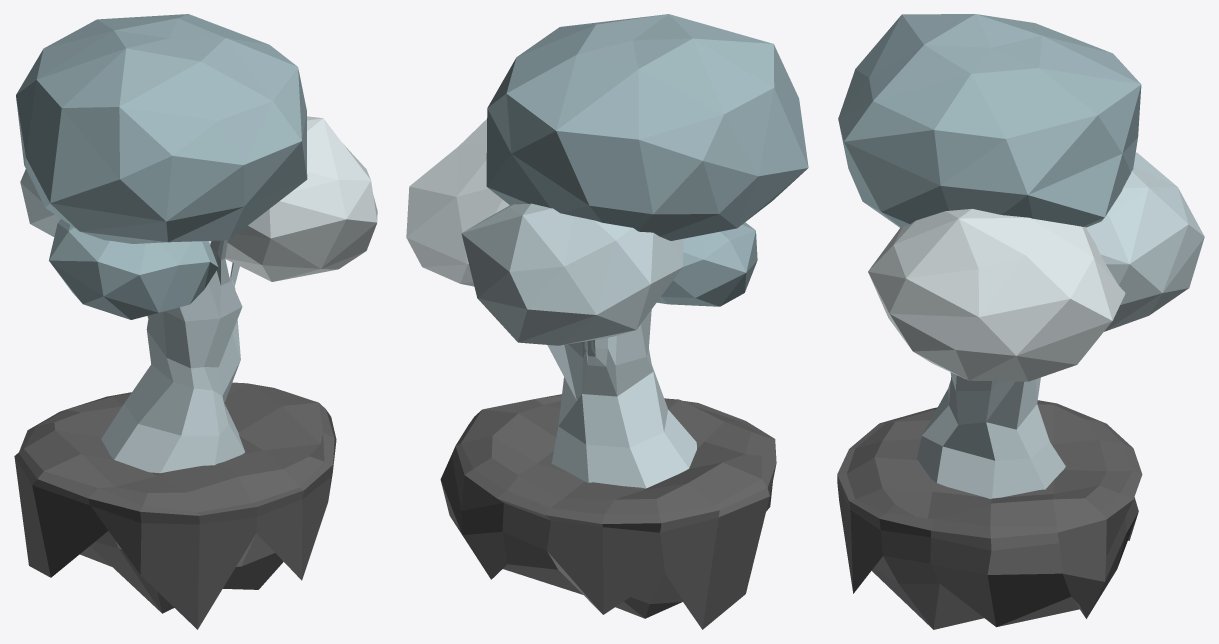
Rendered from Acacia statue.fbx.
The picture shows the model from 3 angles, left to right: view 1: azimuth 30°, elevation 25°; view 2: azimuth 150°, elevation 25°; view 3: azimuth 270°, elevation 25°; orthographic projection.
Visible parts, largest first — view 1: Icosphere.001, Plane.004, Cube, Icosphere, Icosphere.003, Icosphere.002; view 2: Icosphere.001, Plane.004, Icosphere.002, Cube, Icosphere, Icosphere.003; view 3: Icosphere.001, Plane.004, Icosphere, Cube, Icosphere.002.
Part boxes in pixels (<box>): Icosphere.001: <box>16,14,307,243</box>; Plane.004: <box>14,382,336,629</box>; Cube: <box>101,240,244,473</box>; Icosphere: <box>225,116,377,281</box>; Icosphere.003: <box>49,219,218,319</box>; Icosphere.002: <box>20,169,60,236</box>; Icosphere.001: <box>486,14,808,240</box>; Plane.004: <box>440,394,776,629</box>; Icosphere.002: <box>461,203,683,345</box>; Cube: <box>547,310,696,488</box>; Icosphere: <box>406,119,509,286</box>; Icosphere.003: <box>657,222,757,306</box>; Icosphere.001: <box>838,14,1141,227</box>; Plane.004: <box>837,400,1142,629</box>; Icosphere: <box>868,209,1125,381</box>; Cube: <box>917,372,1065,498</box>; Icosphere.002: <box>1086,152,1204,331</box>.
Bounding box in the file's own units: 3003 × 4630 × 2746.
